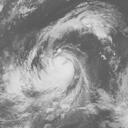cyclone: (32, 47, 87, 97)
